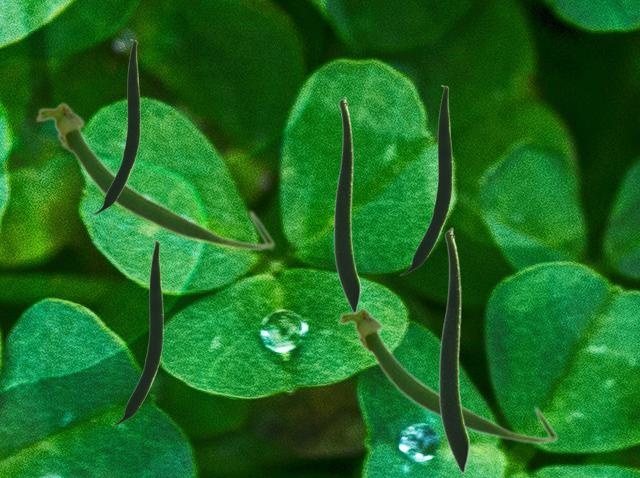french_bean: (34, 100, 275, 251), (336, 305, 558, 444), (399, 85, 451, 274), (112, 240, 162, 424), (92, 39, 139, 213), (438, 227, 469, 473), (333, 96, 360, 310)
